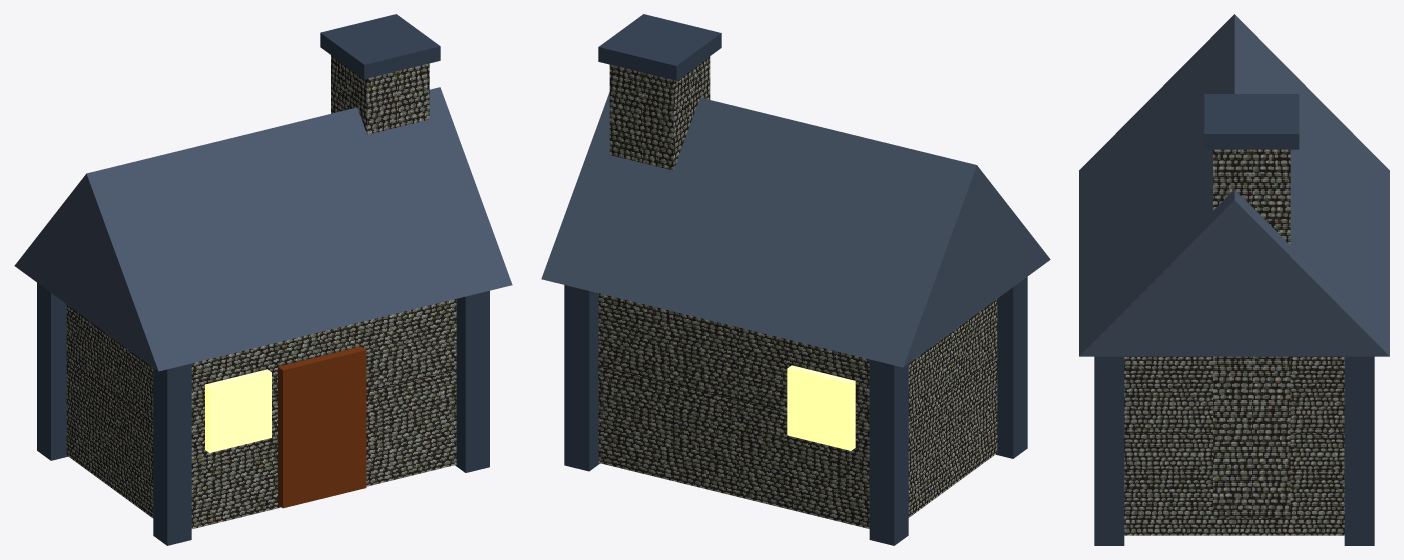
File: casa_nungu.glb
3 renders of one model, left to right at view 1: azimuth 30°, elevation 25°; view 2: azimuth 150°, elevation 25°; view 3: azimuth 270°, elevation 25°, orthographic. The views are drawn at different scales.
Parts seen in each view (by area): view 1: Nungu_Techo, Cube, Cube.005, Cube.001, Cube.003, Cube.006, Cube.007, Cube.002, Cube.008; view 2: Nungu_Techo, Cube, Cube.006, Cube.002, Cube.004, Cube.007, Cube.001, Cube.009; view 3: Nungu_Techo, Cube, Cube.006, Cube.003, Cube.004, Cube.007.
Part boxes in pixels (x1,y1,x2,y2): Nungu_Techo: (14, 87, 512, 371); Cube: (66, 299, 456, 529); Cube.005: (278, 346, 366, 508); Cube.001: (153, 363, 191, 545); Cube.003: (455, 290, 489, 472); Cube.006: (331, 55, 429, 134); Cube.007: (320, 14, 440, 79); Cube.002: (37, 283, 67, 460); Cube.008: (205, 369, 271, 452); Nungu_Techo: (541, 92, 1050, 367); Cube: (598, 293, 997, 528); Cube.006: (609, 56, 710, 170); Cube.002: (869, 359, 908, 545); Cube.004: (564, 285, 599, 471); Cube.007: (598, 14, 721, 80); Cube.001: (996, 277, 1027, 458); Cube.009: (787, 365, 855, 450); Nungu_Techo: (1079, 14, 1389, 356); Cube: (1124, 356, 1344, 535); Cube.006: (1213, 149, 1290, 517); Cube.003: (1094, 356, 1124, 545); Cube.004: (1344, 356, 1374, 545); Cube.007: (1204, 94, 1299, 149).
Size of the model in its own units: 5.1 by 5.28 by 3.6.
5 materials, 1 textured.
